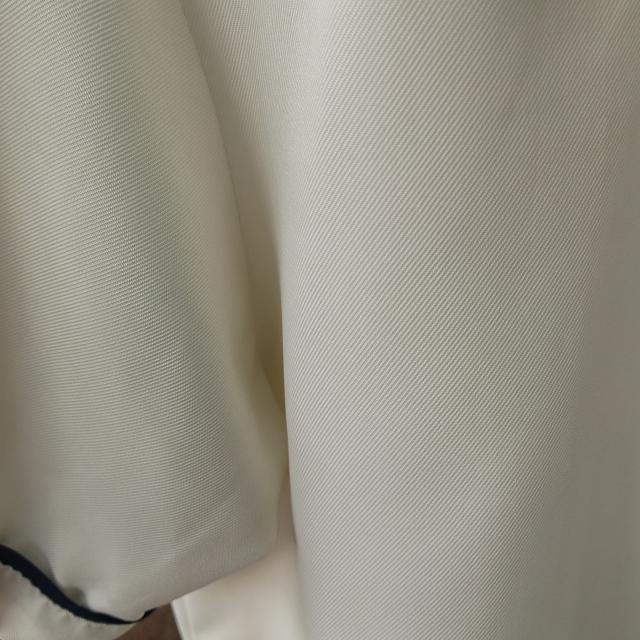education_male_uniform: (0, 3, 316, 640)
